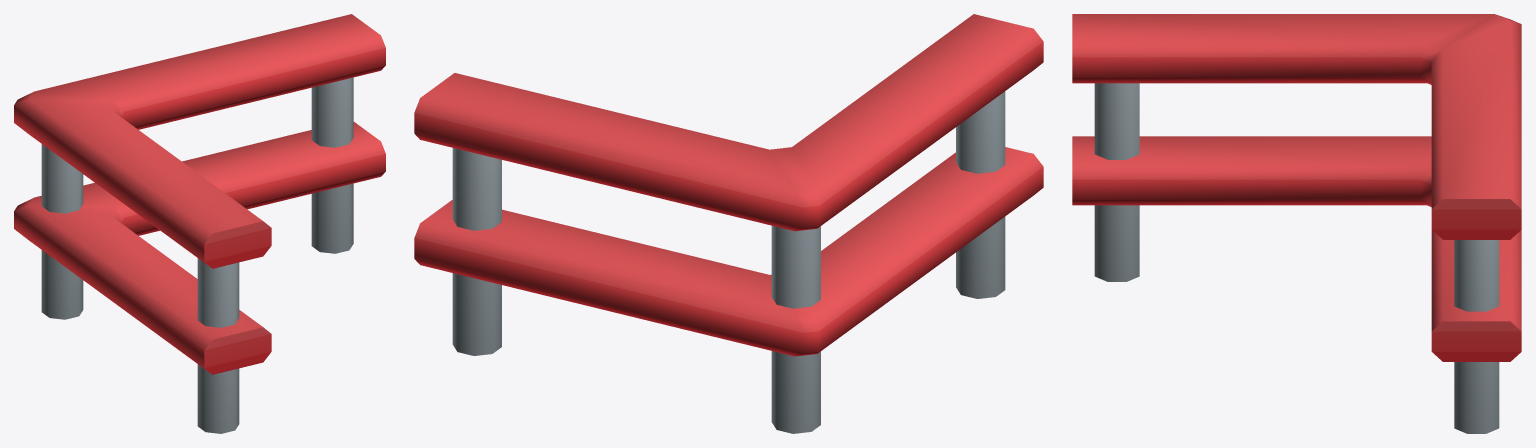
File: kaykit_railing_corner_double_red.glb
3 renders of one model, left to right at view 1: azimuth 30°, elevation 25°; view 2: azimuth 150°, elevation 25°; view 3: azimuth 270°, elevation 25°, orthographic. The views are drawn at different scales.
Parts seen in each view (by area): view 1: railing_corner_double_red_visual; view 2: railing_corner_double_red_visual; view 3: railing_corner_double_red_visual.
Part boxes in pixels (box(x1,y1,x2,y2)): railing_corner_double_red_visual: box(14, 14, 385, 433); railing_corner_double_red_visual: box(414, 14, 1043, 433); railing_corner_double_red_visual: box(1072, 14, 1521, 433).
Size of what is drawn, in the model's own units: 2 by 1.2 by 2.
Materials: 1 (1 with a texture image).
